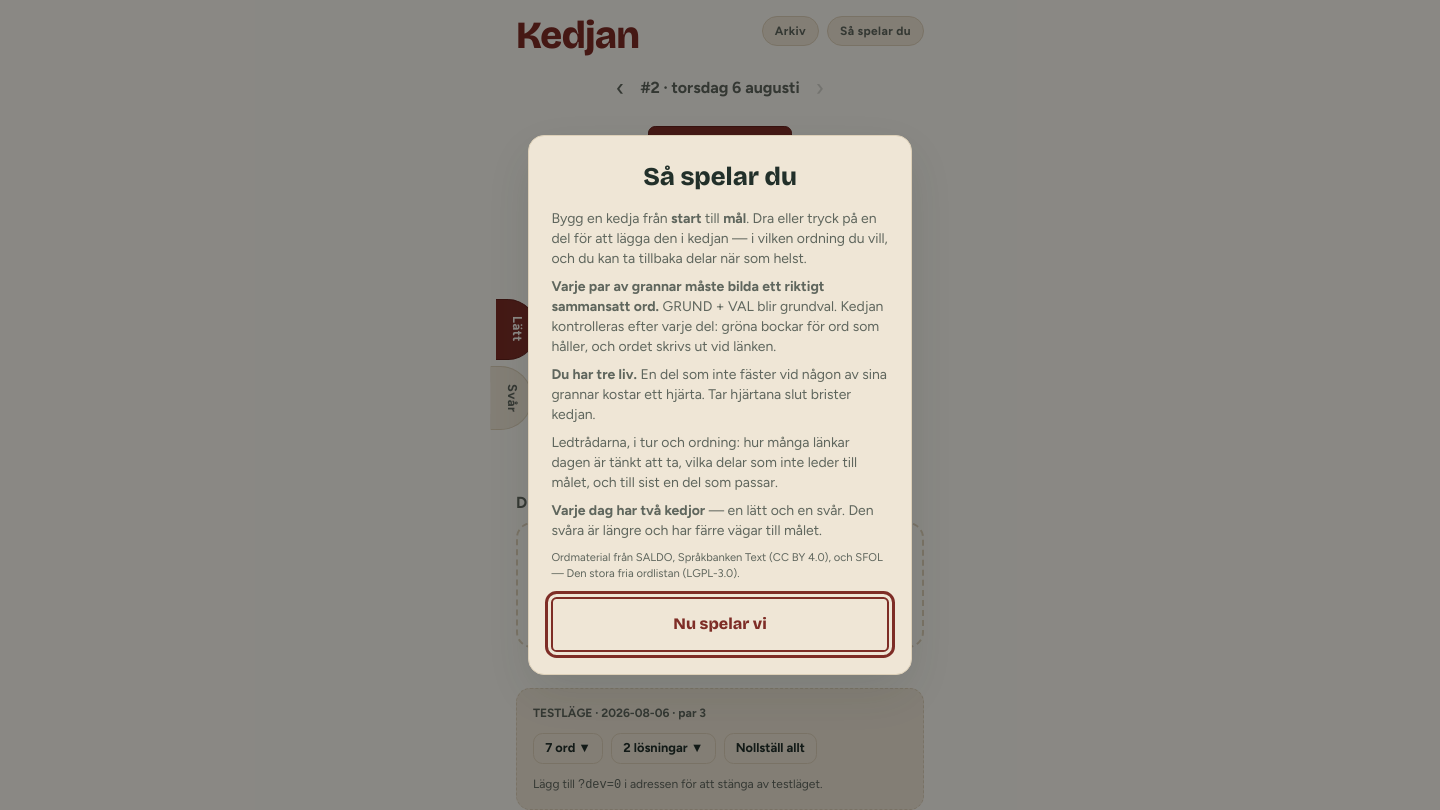
Test case: the welcome dialog › shows the rules once, on the very first load
This screenshot has width=1440, height=810.
Check: the heading "Så spelar du" is shown, box [643,161,797,192]
Check: the text "Du har tre liv." is shown, box [551,366,637,383]
Click the button "Nu spelar vi": (720, 624) [551,597,889,652]
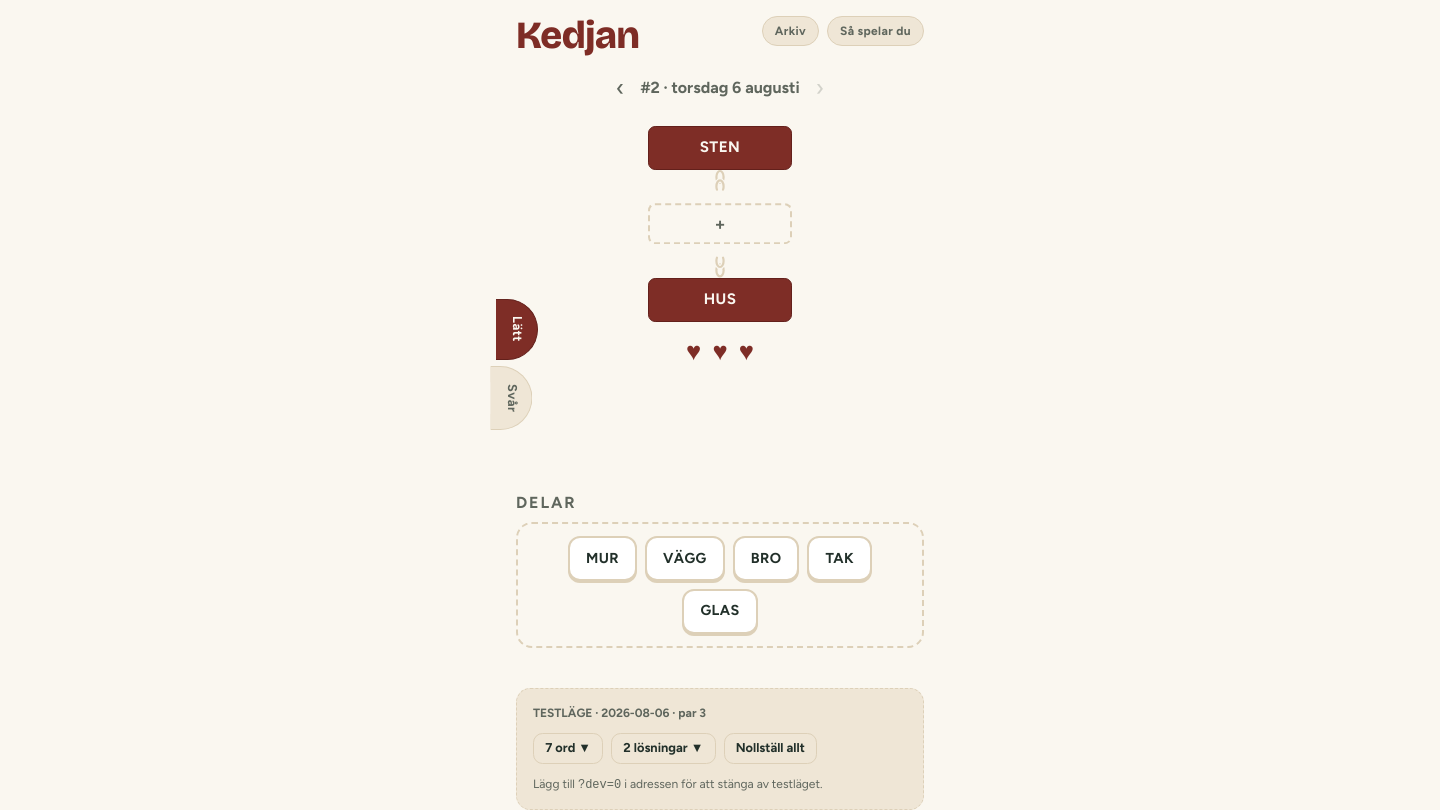
Check: the dialog is gone
